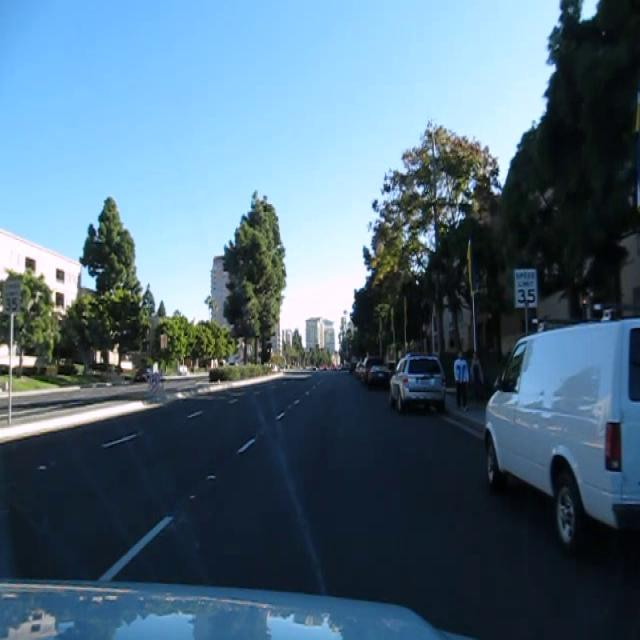speedLimit35: (513, 267, 537, 308), (1, 278, 21, 314)
